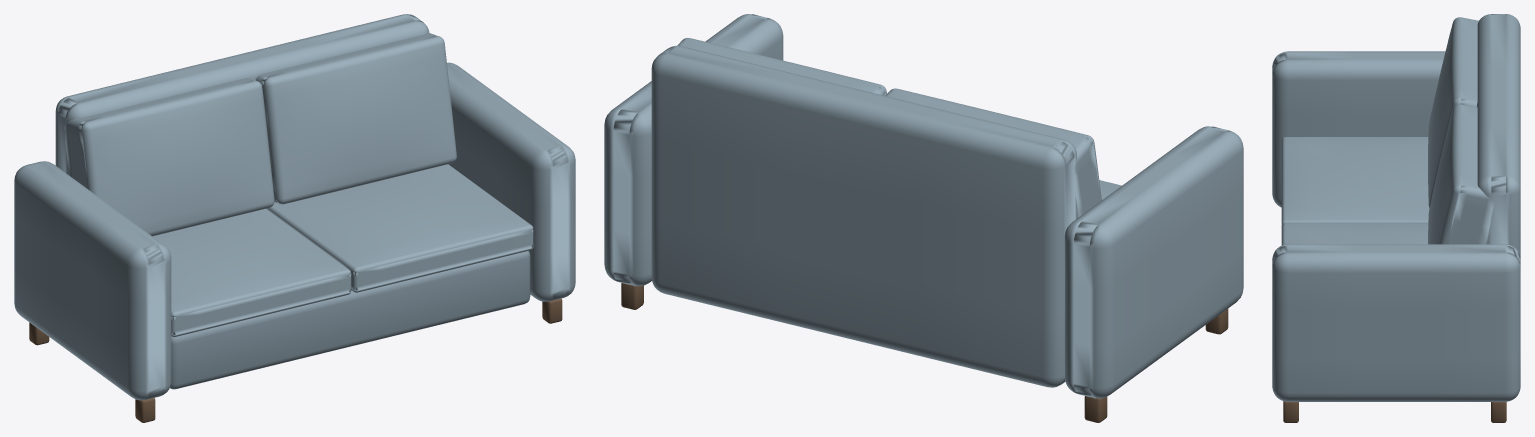
The model's file is sofa-1.glb.
3 views of the same model, side by side, from view 1: azimuth 30°, elevation 25°; view 2: azimuth 150°, elevation 25°; view 3: azimuth 270°, elevation 25° (orthographic). The views are drawn at different scales.
Visible parts, largest first — view 1: Sofa; view 2: Sofa; view 3: Sofa.
Boxes of the visible parts, bbox=[...] form: Sofa: bbox=[14, 14, 575, 422]; Sofa: bbox=[604, 14, 1243, 422]; Sofa: bbox=[1272, 14, 1520, 422].
Size of the model in its own units: 1.6 by 0.8 by 0.79.
